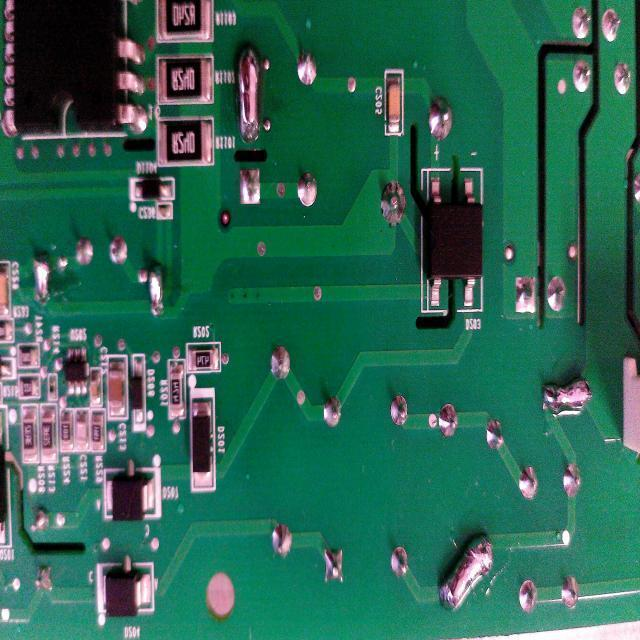Soldering shorted: (435, 528, 496, 618), (233, 36, 265, 152), (534, 364, 593, 426), (148, 257, 168, 322), (32, 250, 53, 308)
